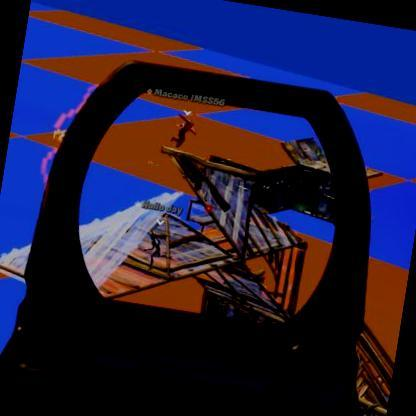person: (170, 111, 197, 156), (142, 226, 168, 270)
